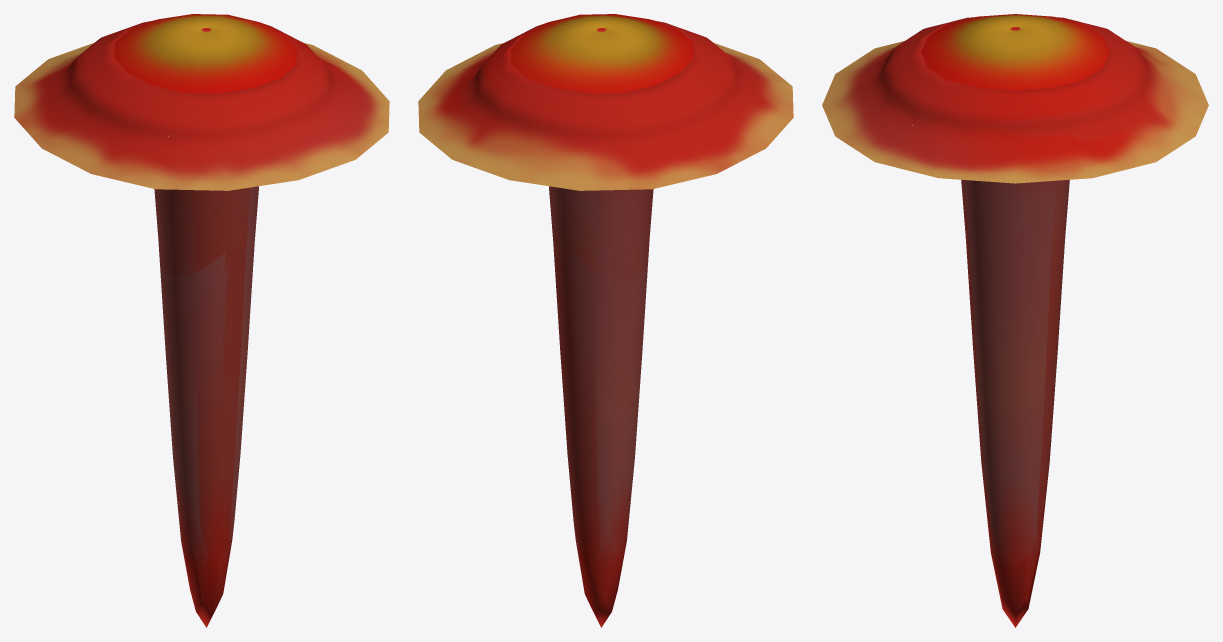
File: newwound.fbx
3 renders of one model, left to right at view 1: azimuth 30°, elevation 25°; view 2: azimuth 150°, elevation 25°; view 3: azimuth 270°, elevation 25°, orthographic.
Visible parts, largest first — view 1: Wound, Wound.003; view 2: Wound, Wound.003; view 3: Wound, Wound.003.
Boxes of the visible parts, x1,y1,x2,y2 form: Wound: (14, 19, 389, 627); Wound.003: (114, 14, 297, 93); Wound: (418, 19, 793, 627); Wound.003: (510, 14, 693, 93); Wound: (822, 17, 1208, 627); Wound.003: (921, 14, 1109, 90).
Bounding box in the file's own units: 18.31 × 32.69 × 19.12.
